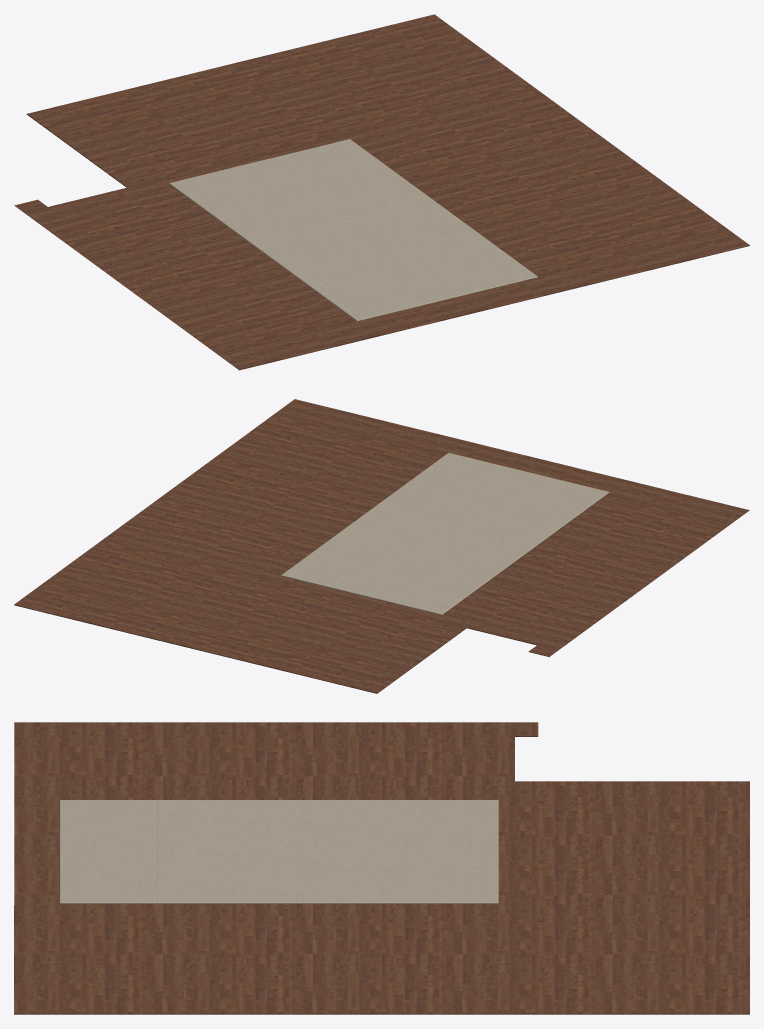
The model's file is Pod_01.gltf.
3 views of the same model, one above another, from view 1: azimuth 30°, elevation 25°; view 2: azimuth 150°, elevation 25°; view 3: azimuth 270°, elevation 25° (orthographic). The views are drawn at different scales.
Parts seen in each view (by area): view 1: pod.001, tepih.001; view 2: pod.001, tepih.001; view 3: pod.001, tepih.001.
Boxes of the visible parts, bbox=[...] form: pod.001: bbox=[14, 14, 749, 370]; tepih.001: bbox=[169, 139, 537, 321]; pod.001: bbox=[14, 399, 749, 693]; tepih.001: bbox=[281, 452, 609, 614]; pod.001: bbox=[14, 722, 749, 1014]; tepih.001: bbox=[59, 800, 498, 903].
Size of the model in its own units: 706 by 2.65 by 754.
2 materials, 2 textured.
